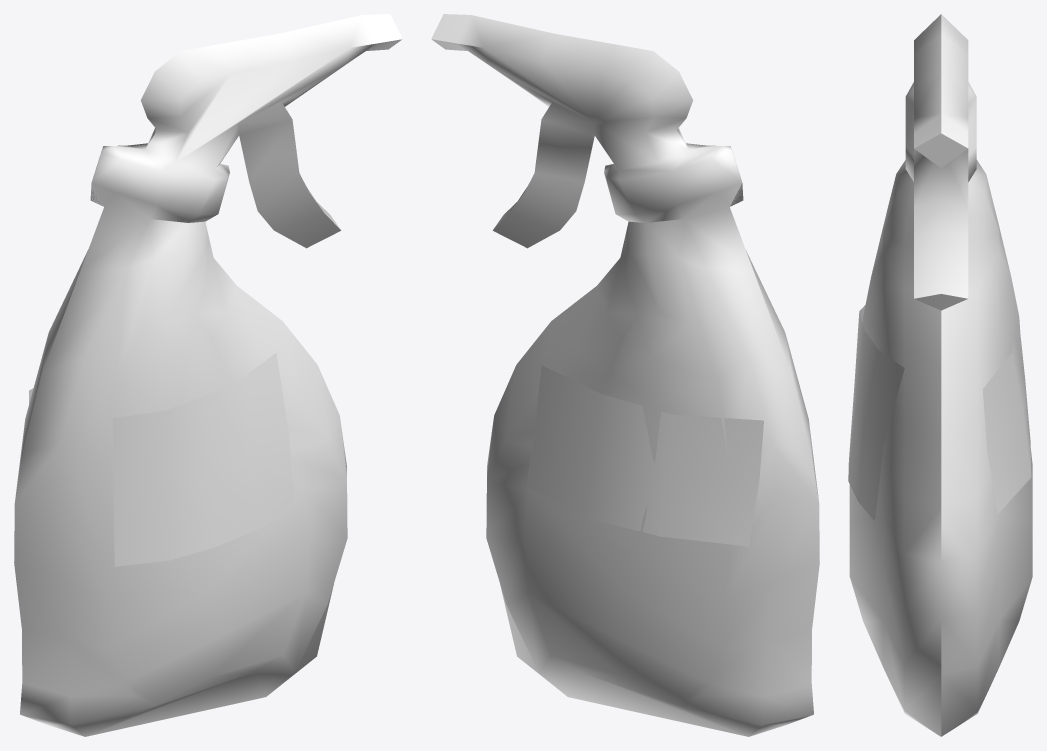
Rendered from Bleach.fbx.
3 renders of one model, left to right at view 1: azimuth 30°, elevation 25°; view 2: azimuth 150°, elevation 25°; view 3: azimuth 270°, elevation 25°, orthographic. The views are drawn at different scales.
Visible parts, largest first — view 1: Bleach; view 2: Bleach; view 3: Bleach.
Boxes of the visible parts, x1,y1,x2,y2 form: Bleach: [14, 14, 402, 736]; Bleach: [431, 14, 819, 736]; Bleach: [848, 14, 1032, 736].
Bounding box in the file's own units: 18.86 × 31.11 × 7.81.
1 material, 1 textured.
